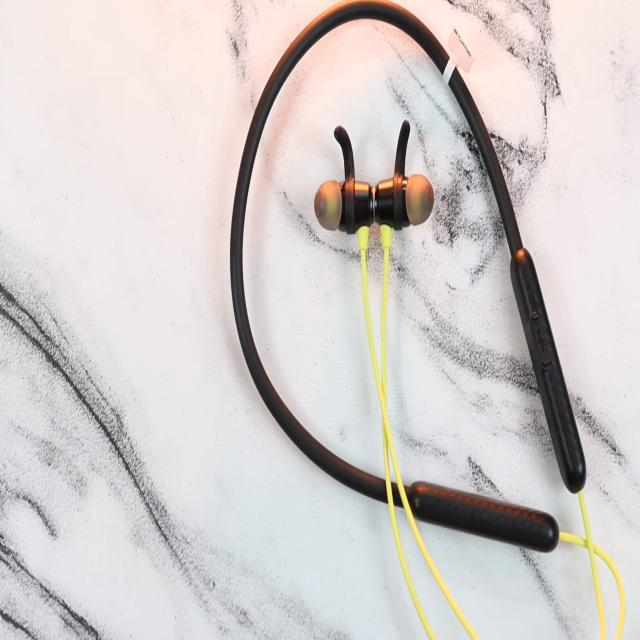Neckband: (228, 0, 624, 640)
